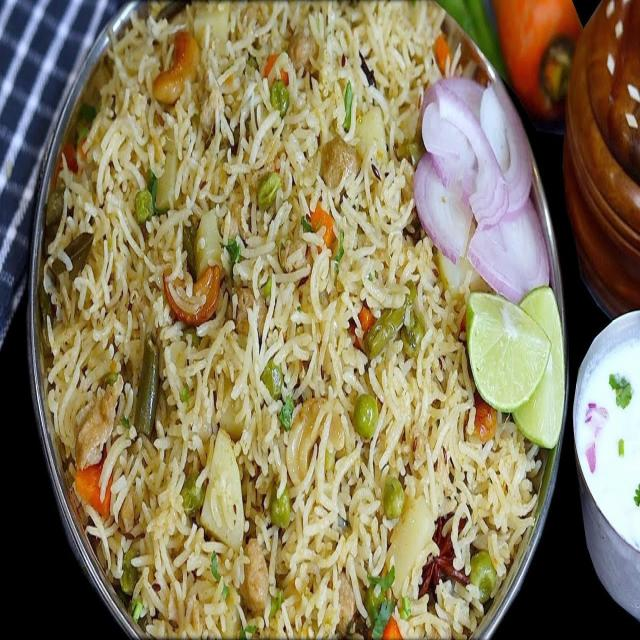veg palav: (28, 0, 571, 640)
